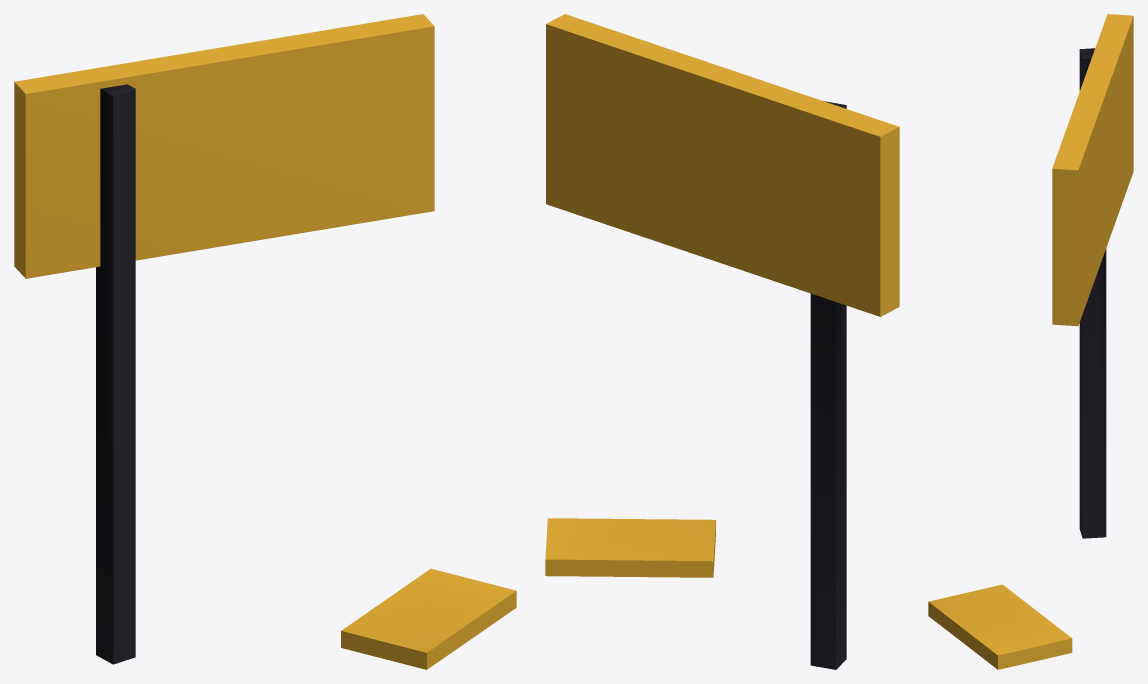
3 renders of one model, left to right at view 1: azimuth 30°, elevation 25°; view 2: azimuth 150°, elevation 25°; view 3: azimuth 270°, elevation 25°, orthographic. The views are drawn at different scales.
Visible parts, largest first — view 1: body_pal_schoolBusYellow, body_pal_uiDark; view 2: body_pal_schoolBusYellow, body_pal_uiDark; view 3: body_pal_schoolBusYellow, body_pal_uiDark.
Boxes of the visible parts, x1,y1,x2,y2 form: body_pal_schoolBusYellow: (14, 14, 516, 669); body_pal_uiDark: (96, 84, 135, 664); body_pal_schoolBusYellow: (545, 14, 899, 577); body_pal_uiDark: (810, 101, 846, 669); body_pal_schoolBusYellow: (928, 14, 1133, 669); body_pal_uiDark: (1079, 48, 1106, 538).
Bounding box in the file's own units: 1.57 × 2.03 × 0.7763.
